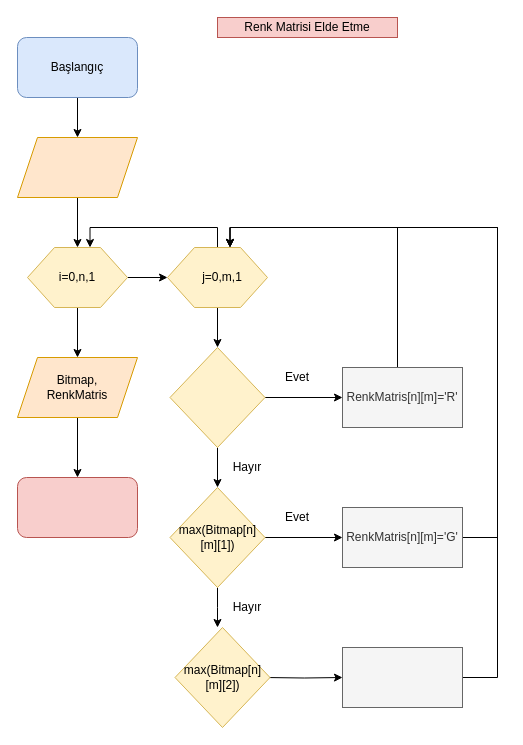
Image size: 523x745. Some labels were removed from this diagram. Each missing label, with the centre of its shape:
Bitiş: (77,507)
Bitmap[n][m][3], RenkMatris[n][m]: (77,167)
max(Bitmap[n][m][0]): (217,397)
RenkMatris[n][m]='B': (402,677)
